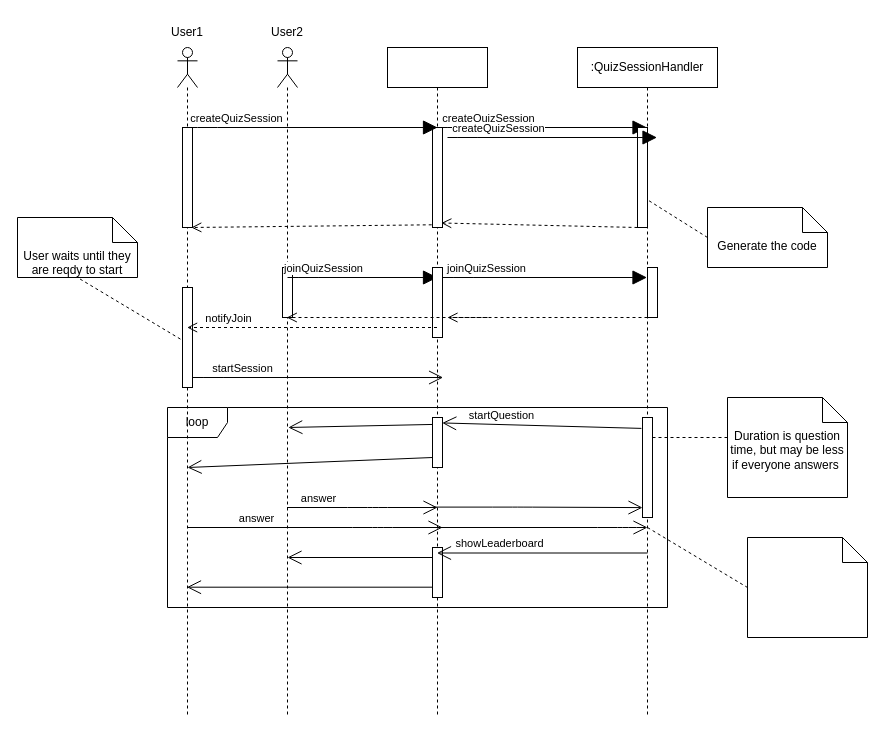
Some shapes in this 885 by 735 pixel diagram are drawn without their labels. The shapes that lost their labels are listed below. From the top down, each one's box as (x1, y1, x2, y2) in pixels, then its label:
(386, 46, 488, 718): :API
(746, 536, 868, 638): Answer is ignored because question did time out
